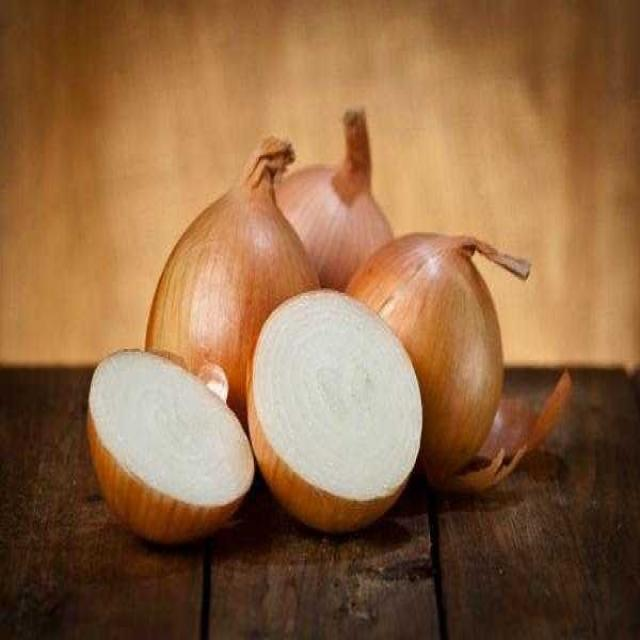onion: (344, 235, 575, 507), (143, 134, 321, 437), (247, 288, 423, 533), (85, 347, 255, 546), (277, 104, 397, 291)
